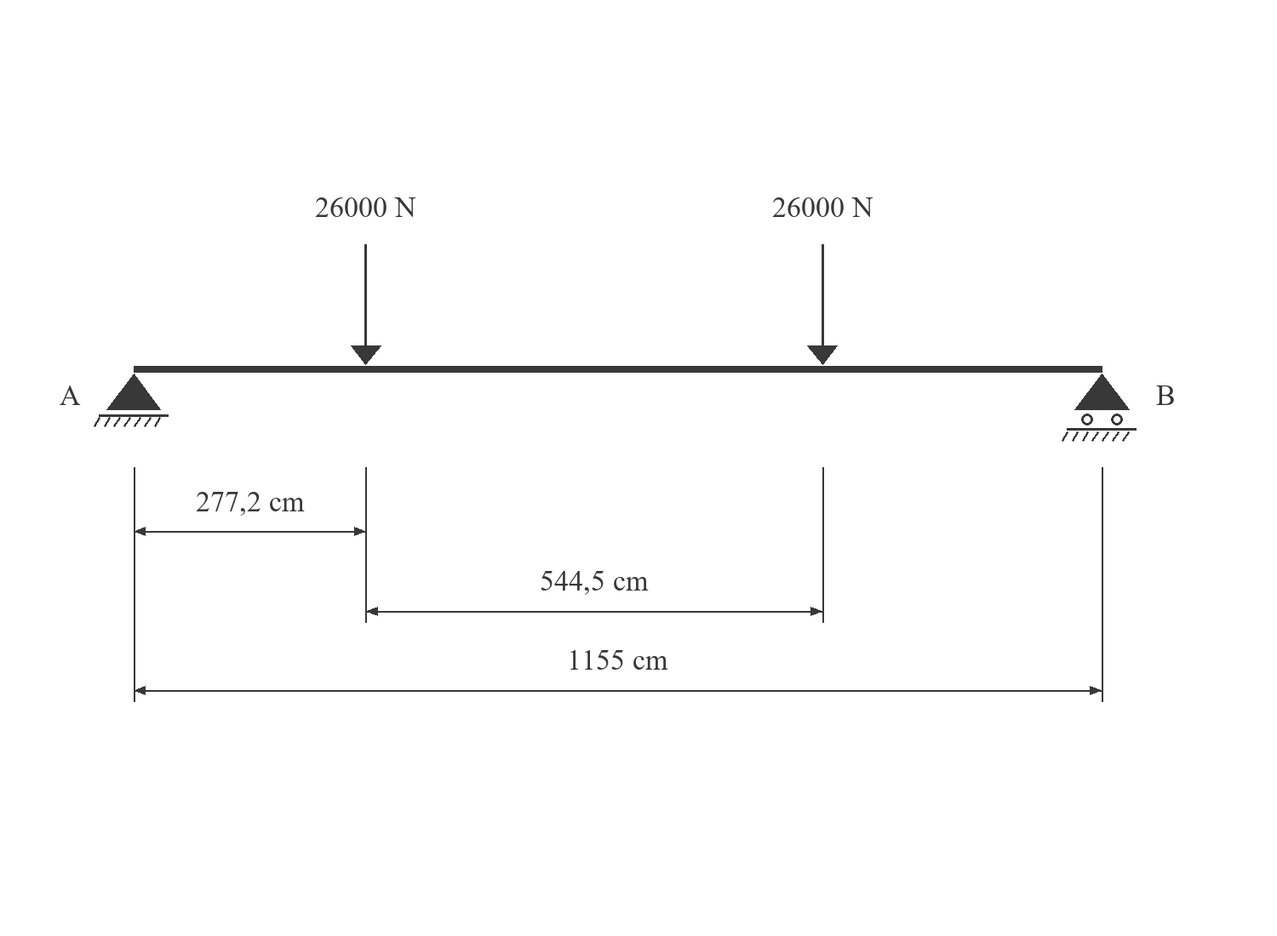pin_support: (94, 374, 169, 427)
point_load: (807, 244, 838, 365), (351, 244, 381, 365)
roller_support: (1062, 374, 1137, 442)
